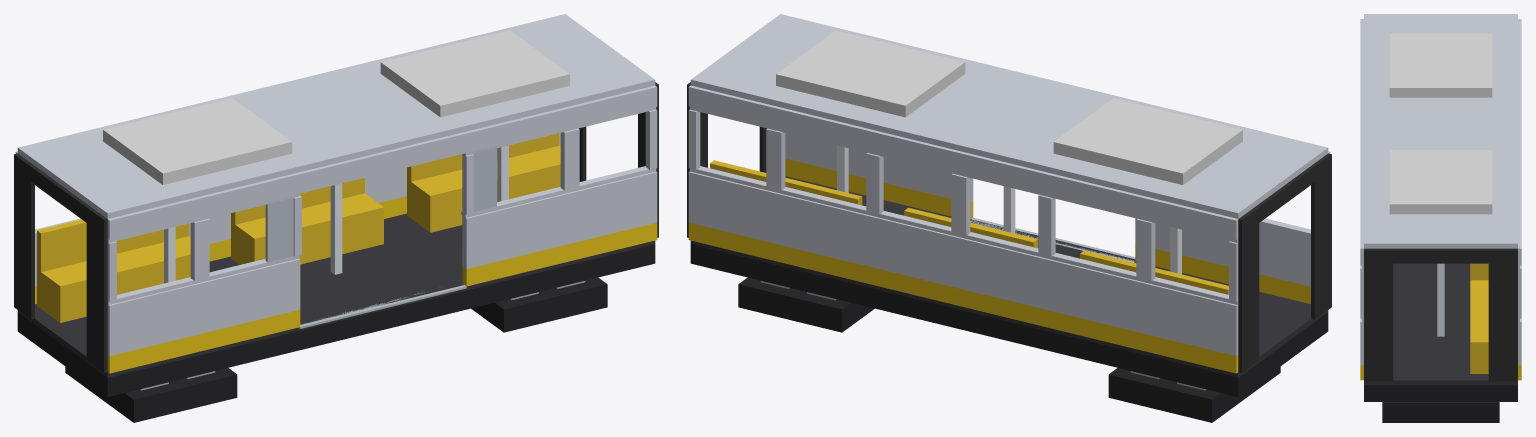
Rendered from metro_wagon_l4.obj.
3 renders of one model, left to right at view 1: azimuth 30°, elevation 25°; view 2: azimuth 150°, elevation 25°; view 3: azimuth 270°, elevation 25°, orthographic. The views are drawn at different scales.
Bounding box in the file's own units: 3 × 1.26 × 0.88.
